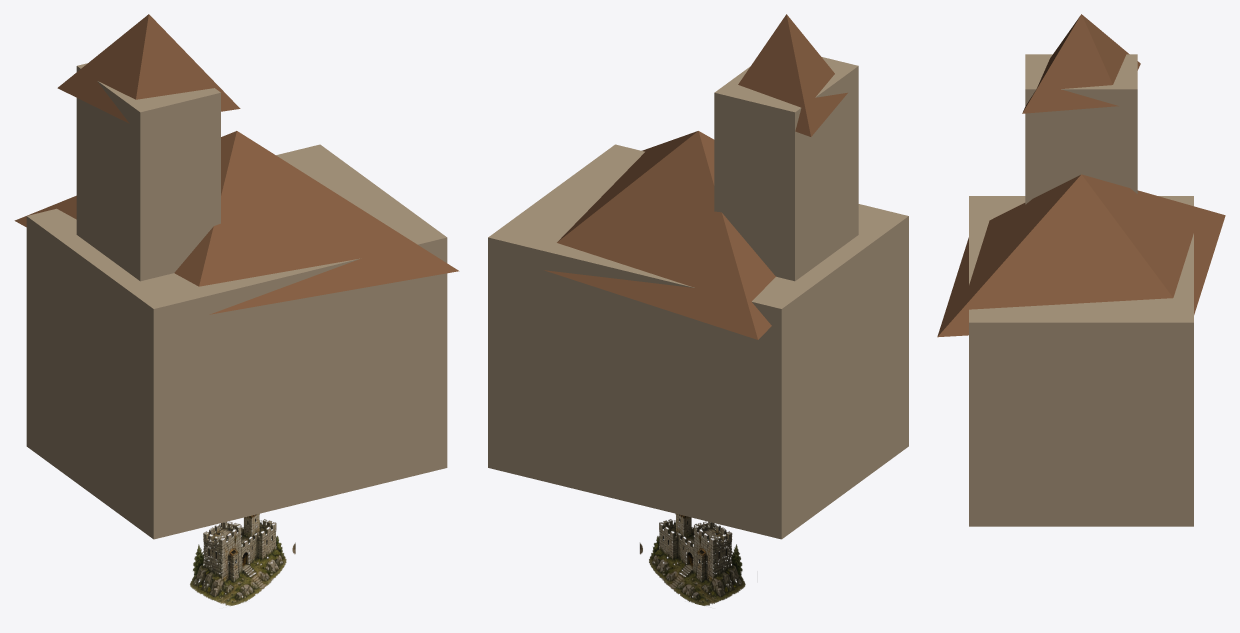
The model's file is fortezza_frontiera.glb.
3 views of the same model, side by side, from view 1: azimuth 30°, elevation 25°; view 2: azimuth 150°, elevation 25°; view 3: azimuth 270°, elevation 25° (orthographic). The views are drawn at different scales.
Visible parts, largest first — view 1: Body, Tower, Roof, TowerRoof, CatalogTexture; view 2: Body, Roof, Tower, CatalogTexture, TowerRoof; view 3: Body, Roof, Tower, TowerRoof.
Part boxes in pixels (<box>): Body: <box>26,144,447,539</box>; Tower: <box>76,63,220,281</box>; Roof: <box>14,131,459,314</box>; TowerRoof: <box>57,14,240,123</box>; CatalogTexture: <box>190,513,295,606</box>; Body: <box>488,144,908,539</box>; Roof: <box>544,131,775,339</box>; Tower: <box>714,57,858,281</box>; CatalogTexture: <box>639,513,745,605</box>; TowerRoof: <box>738,14,847,136</box>; Body: <box>969,196,1193,526</box>; Roof: <box>937,174,1225,337</box>; Tower: <box>1025,54,1137,204</box>; TowerRoof: <box>1022,14,1140,113</box>.
Bounding box in the file's own units: 2 × 3.99 × 1.92.
3 materials, 1 textured.
